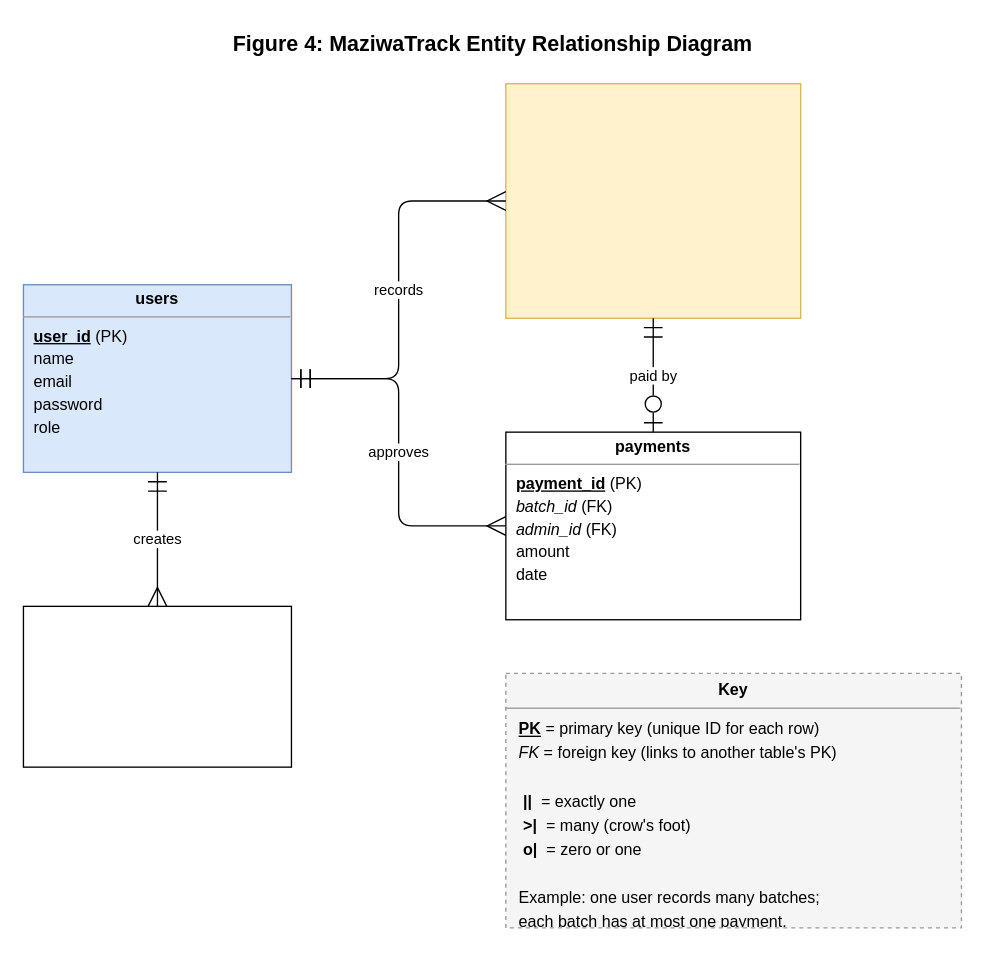
Some shapes in this 985 by 954 pixel diagram are drawn without their labels. The shapes that lost their labels are listed below. From the top down, each one's box as (x1, y1, x2, y2) in pixels, then its label:
(505, 82, 801, 318): batches batch_id (PK) batch_number farmer_id (FK) litres quality status date
(22, 605, 291, 767): audit_logs log_id (PK) user_id (FK) action date
